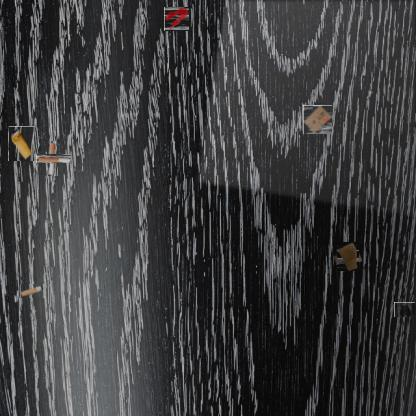dirty: (8, 126, 34, 161), (303, 105, 332, 134), (335, 243, 361, 269), (42, 147, 65, 170), (20, 284, 46, 298)
liquid: (165, 7, 189, 32), (394, 302, 415, 317)
